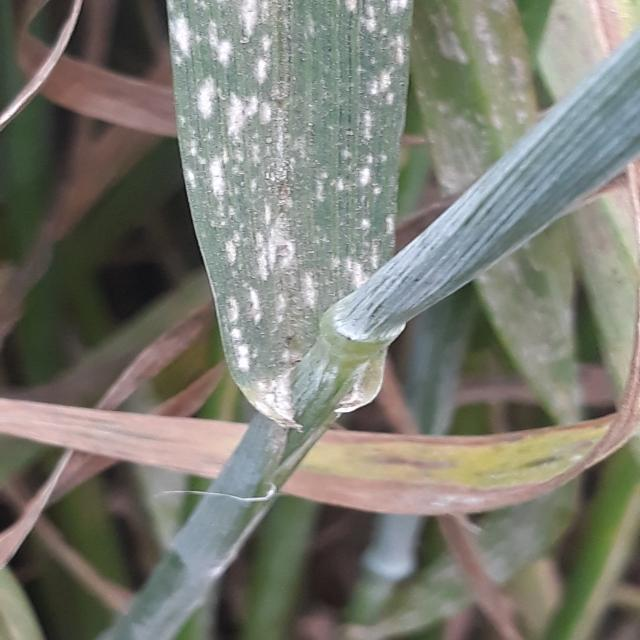powder_mildew: (169, 0, 409, 471), (0, 397, 640, 522), (409, 0, 542, 191), (0, 0, 170, 127), (484, 231, 576, 420), (546, 3, 638, 85)
